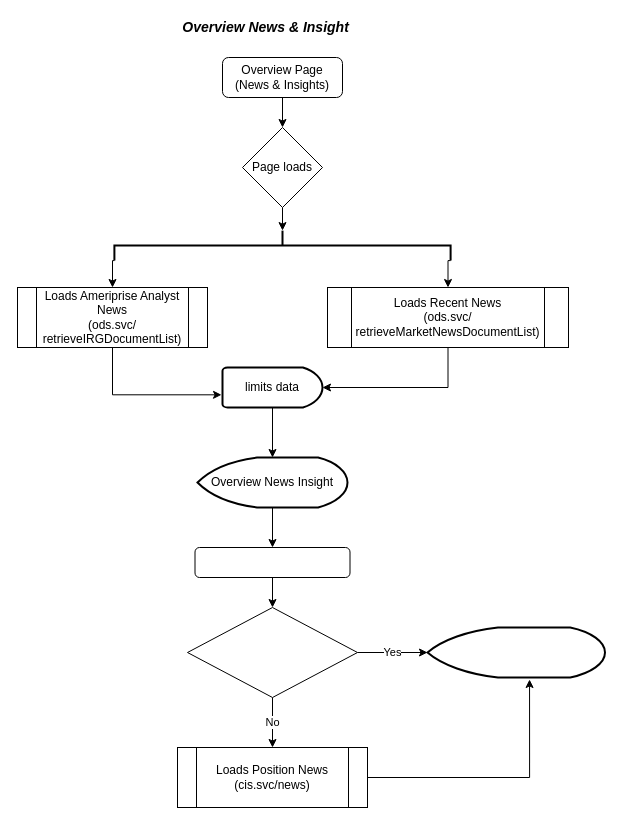
The diagram is 623 pixels wide and 825 high, and some of its shapes have lost their labels. Here are the shapes that lost their labels. From the top down, the box of each, then its label:
(194, 546, 350, 578): User click Positions News
(186, 606, 358, 698): is Position News Data loaded?
(426, 626, 606, 678): Display Position News data
